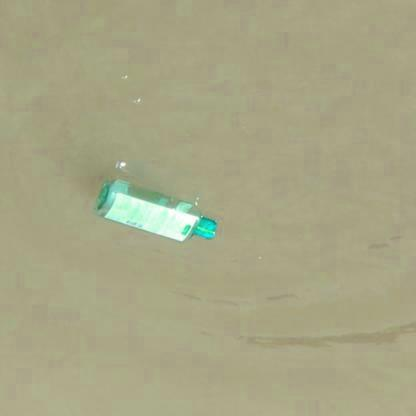Glass: (94, 175, 218, 243)
